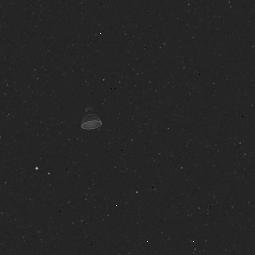debris: (76, 100, 109, 136)
